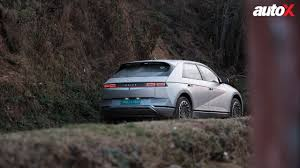Honda Ioniq: (93, 54, 263, 125)
